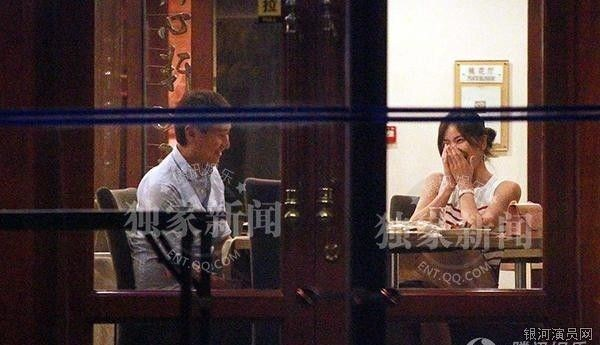face: (443, 127, 480, 170), (195, 125, 230, 163)
